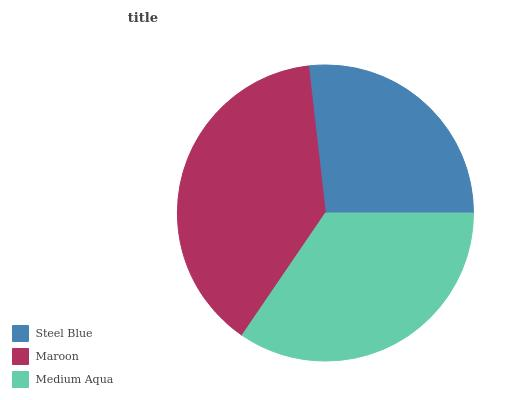legend: (0, 318, 124, 400)
sector: (176, 65, 327, 337), (237, 212, 474, 362), (309, 64, 474, 213)
